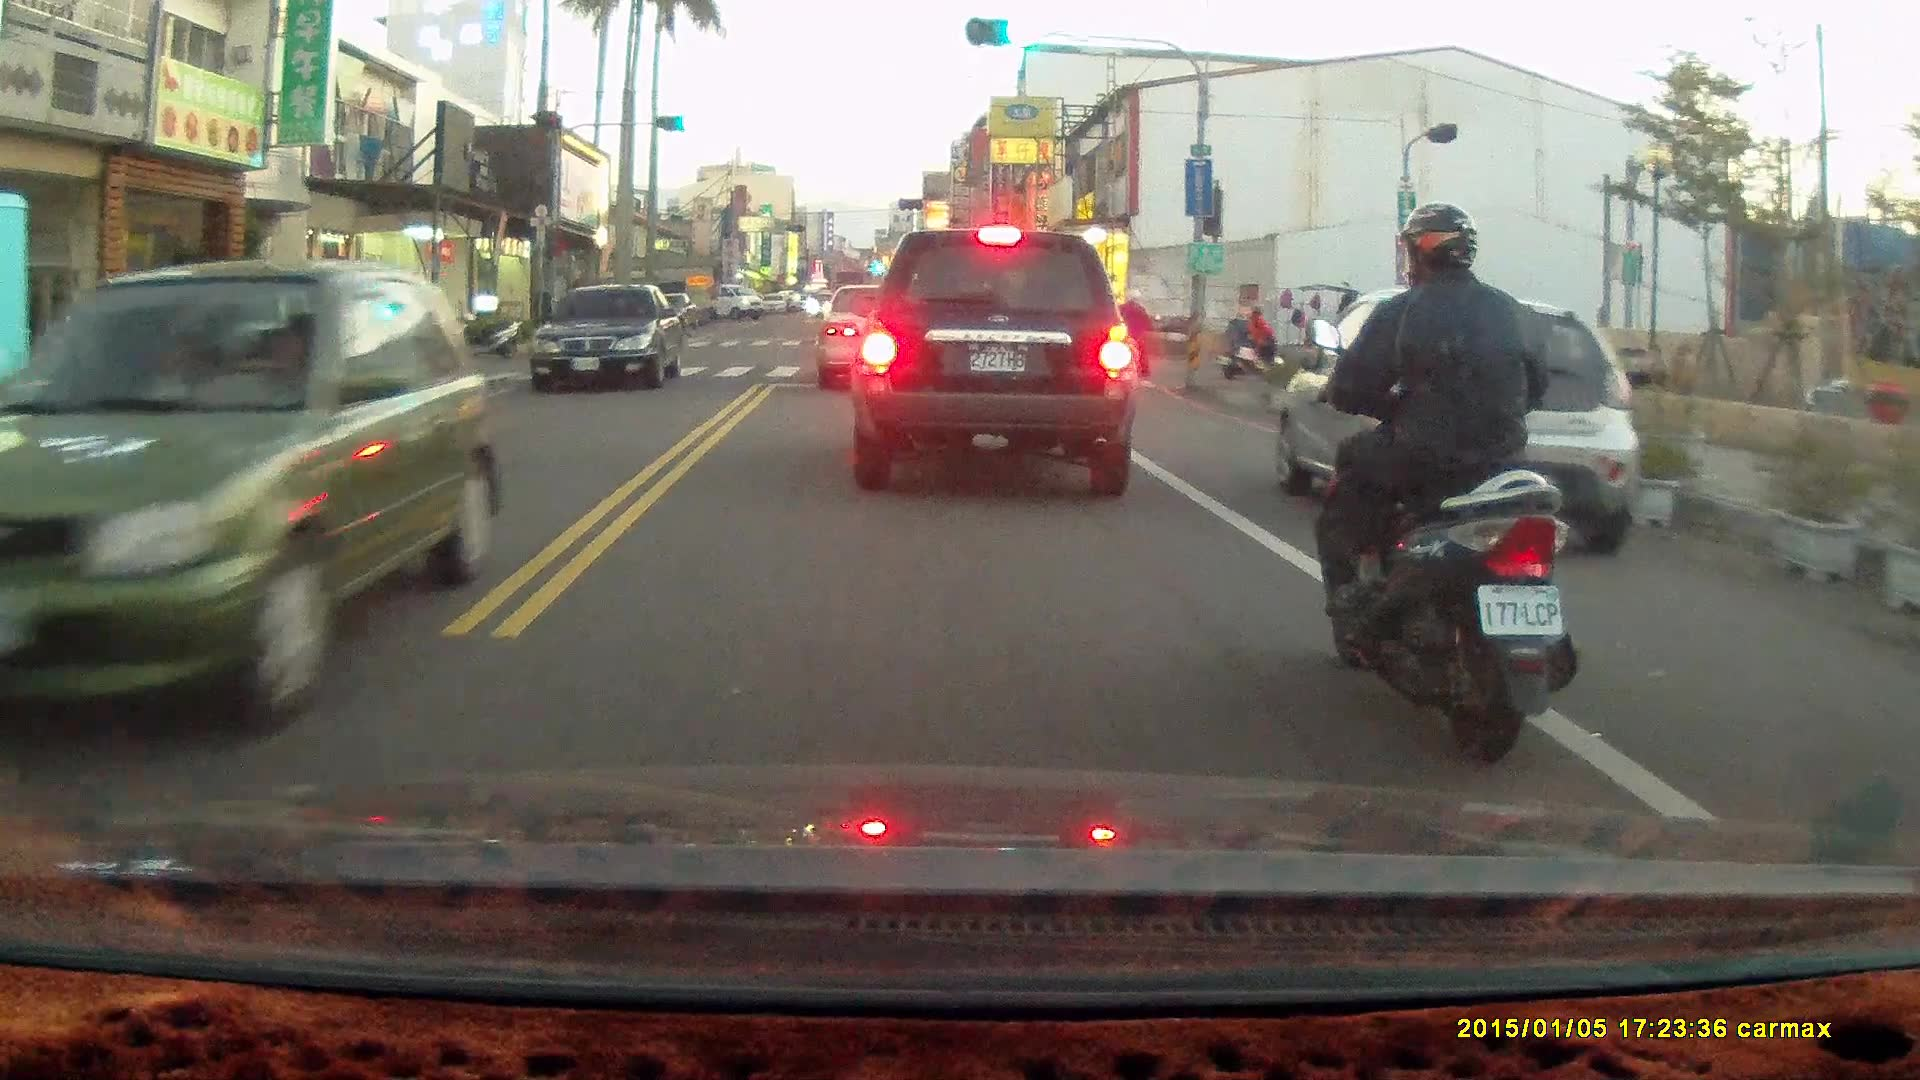rider: (1302, 199, 1579, 765), (1218, 297, 1282, 378), (1106, 284, 1156, 386)
vehicle: (1, 252, 516, 737), (1269, 289, 1645, 555), (854, 223, 1135, 501), (533, 283, 686, 395), (816, 283, 940, 397), (1, 191, 42, 493)
